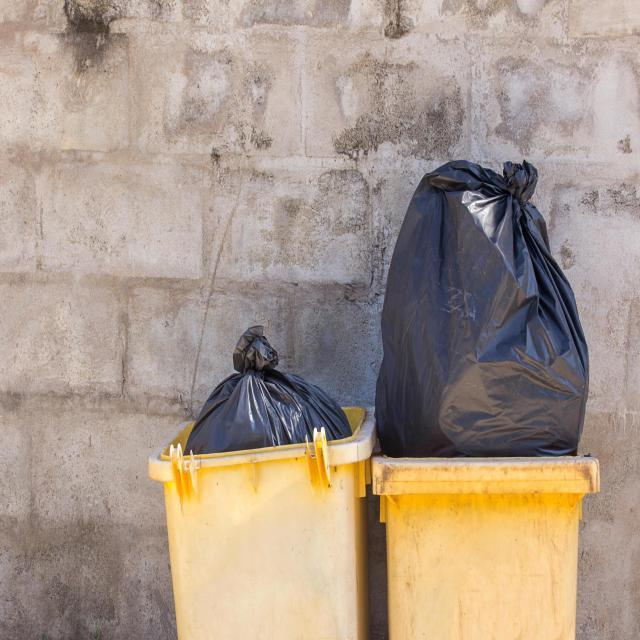garbage: (364, 152, 602, 459), (166, 297, 362, 482)
